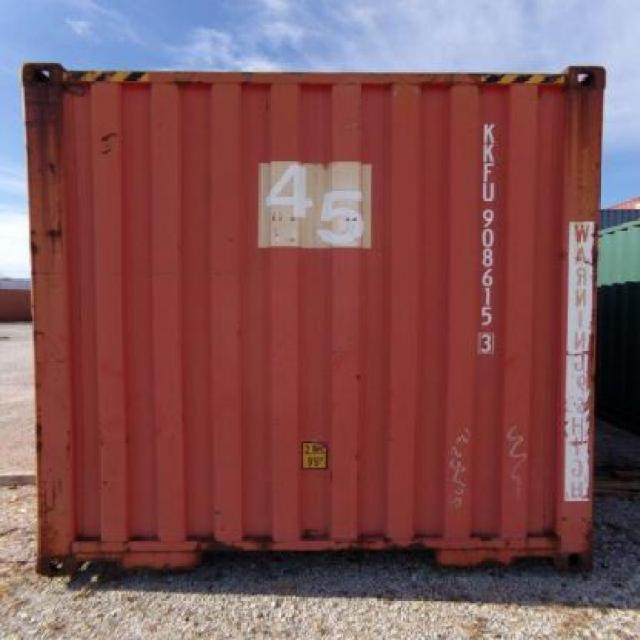container_number: (478, 110, 498, 366)
